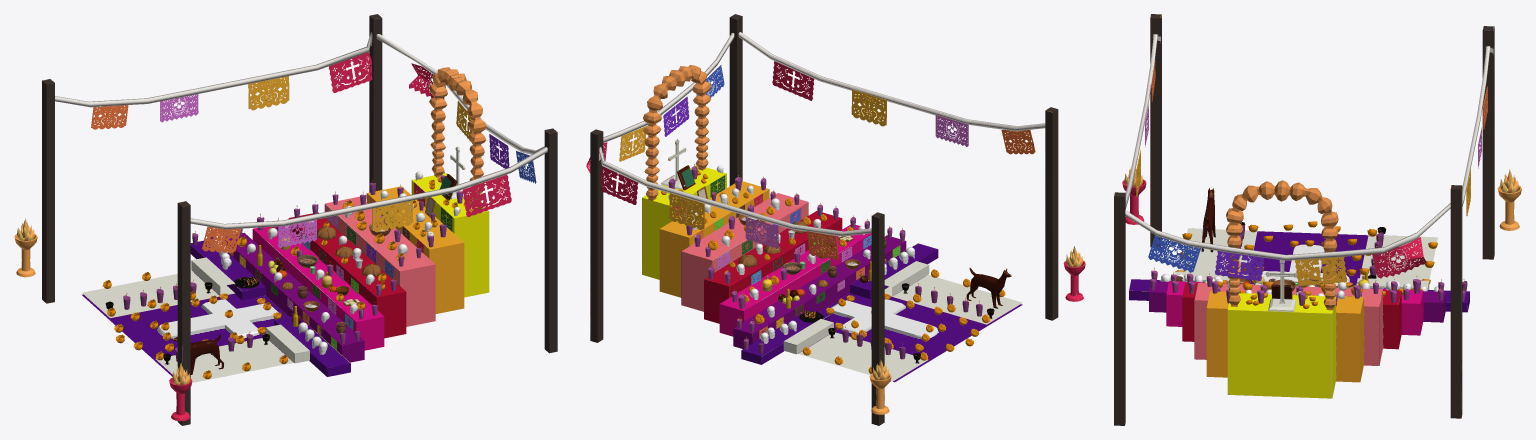
The model's file is ofrenda.obj.
The picture shows the model from 3 angles, left to right: view 1: azimuth 30°, elevation 25°; view 2: azimuth 150°, elevation 25°; view 3: azimuth 270°, elevation 25°; orthographic projection. The views are drawn at different scales.
Parts seen in each view (by area): view 1: Altar_Texturizado; view 2: Altar_Texturizado; view 3: Altar_Texturizado.
Part boxes in pixels (x1,y1,x2,y2): Altar_Texturizado: (14,14,557,425); Altar_Texturizado: (586,14,1085,425); Altar_Texturizado: (1114,14,1521,425).
Bounding box in the file's own units: 85.71 × 46.4 × 73.6.
Materials: 1 (1 with a texture image).
